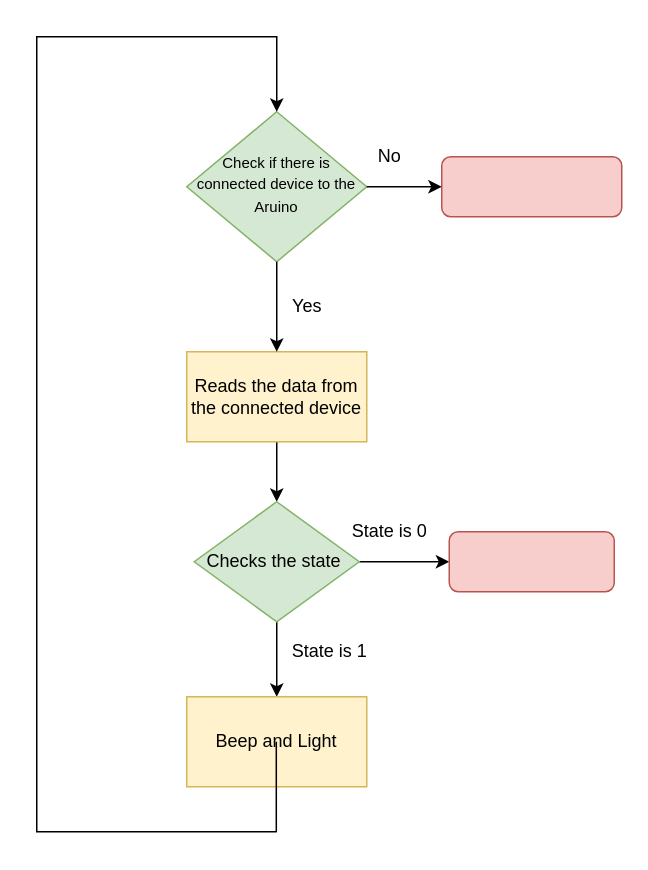
Some shapes in this 648 by 870 pixel diagram are drawn without their labels. The centre of each missing label's shape, as x and y in pixels:
"Shows that Arduino is off" goes at point (531, 561).
"Waits for device to connect" goes at point (531, 186).
